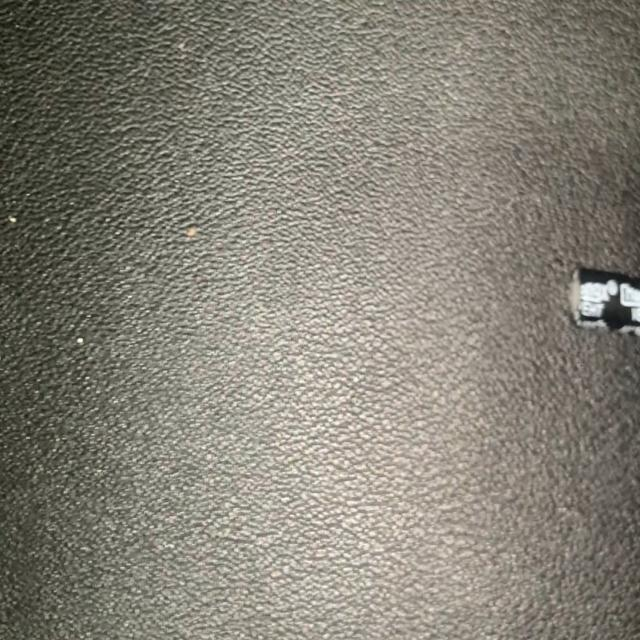capacitor: (562, 255, 640, 347)
